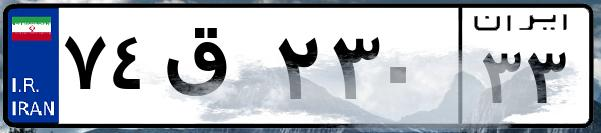0: (385, 28, 445, 110)
2: (270, 28, 330, 110)
3: (330, 28, 385, 110), (475, 38, 525, 113), (525, 38, 570, 115)
4: (110, 28, 158, 98)
7: (57, 26, 110, 100)
ق: (158, 20, 270, 120)
